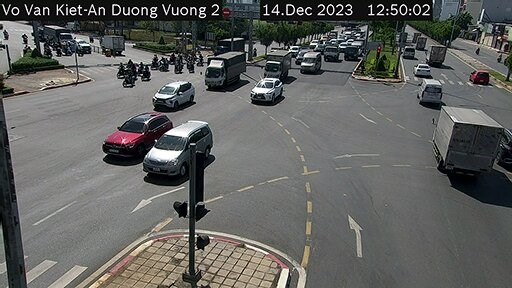car: (142, 110, 210, 175), (105, 107, 164, 162), (153, 74, 194, 109), (253, 75, 282, 108), (421, 79, 445, 105), (470, 64, 492, 84), (415, 63, 434, 75)
truck: (435, 102, 499, 176), (206, 53, 245, 95), (264, 48, 294, 80)
